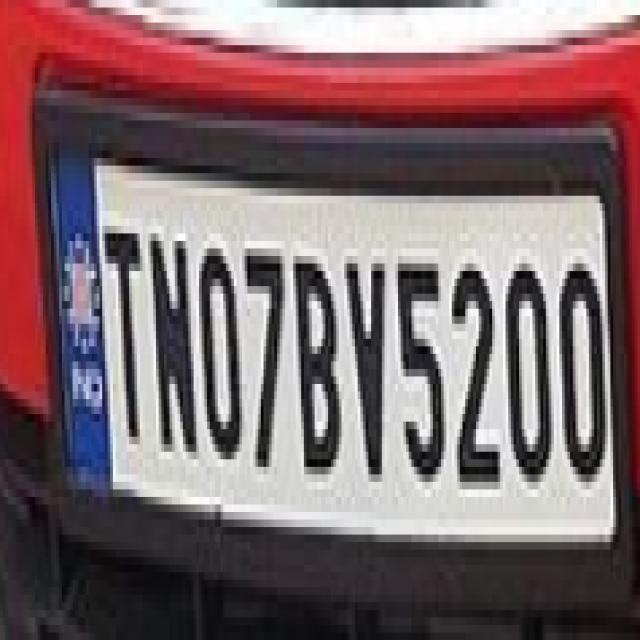0: (504, 258, 554, 492), (557, 260, 607, 489), (198, 234, 242, 474)
5: (394, 250, 445, 490)
7: (244, 238, 288, 474)
B: (291, 239, 342, 482)
N: (148, 225, 198, 464)
T: (100, 219, 146, 466)
V: (344, 246, 390, 499)
